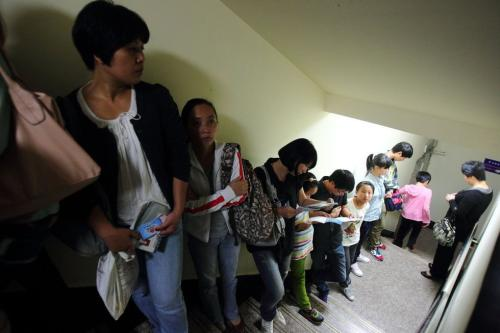no_mask: (68, 2, 150, 86), (177, 97, 219, 152), (277, 136, 317, 181), (459, 159, 487, 188), (328, 168, 354, 199), (388, 139, 414, 163), (355, 179, 375, 206)
